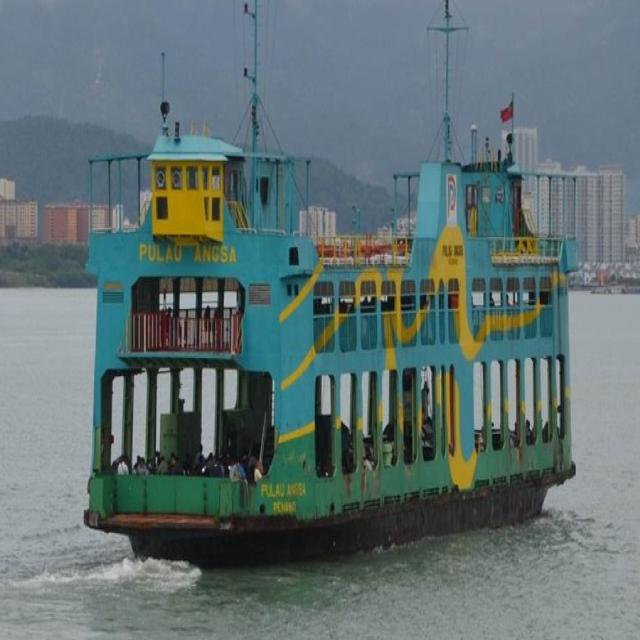boat: (65, 17, 613, 604)
